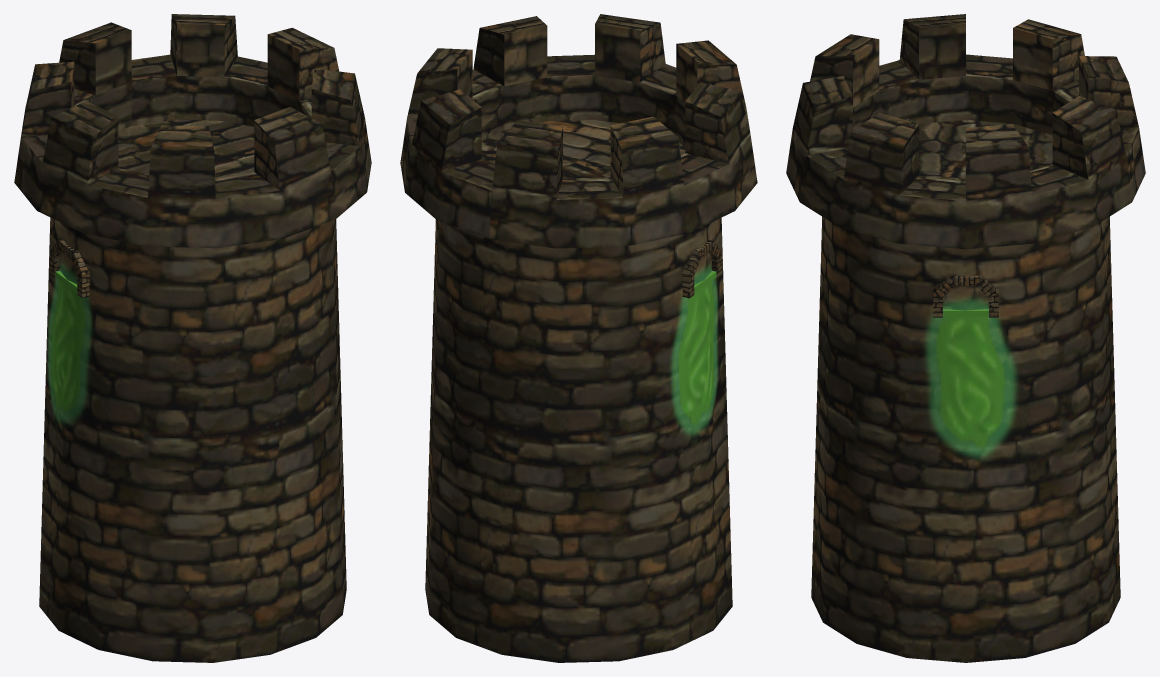
File: Tower1 2lvl.FBX
3 views of the same model, side by side, from view 1: azimuth 30°, elevation 25°; view 2: azimuth 150°, elevation 25°; view 3: azimuth 270°, elevation 25° (orthographic).
Parts seen in each view (by area): view 1: 12lvl; view 2: 12lvl; view 3: 12lvl.
Part boxes in pixels (x1,y1,x2,y2): 12lvl: (14, 14, 371, 662); 12lvl: (400, 14, 757, 662); 12lvl: (786, 14, 1145, 662).
Bounding box in the file's own units: 6.24 × 10 × 6.24.
1 material, 1 textured.
